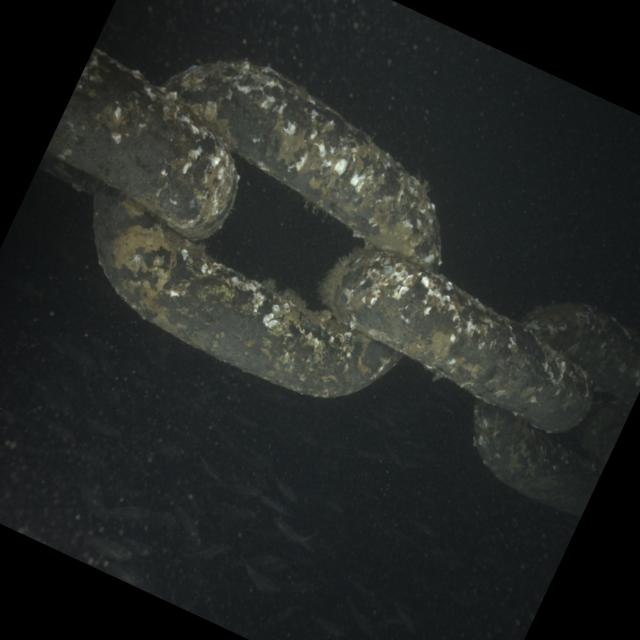ChainLink: (93, 186, 399, 397), (166, 61, 440, 269), (321, 247, 592, 432), (46, 50, 238, 240), (474, 401, 601, 515), (524, 304, 640, 399), (575, 399, 634, 463)
